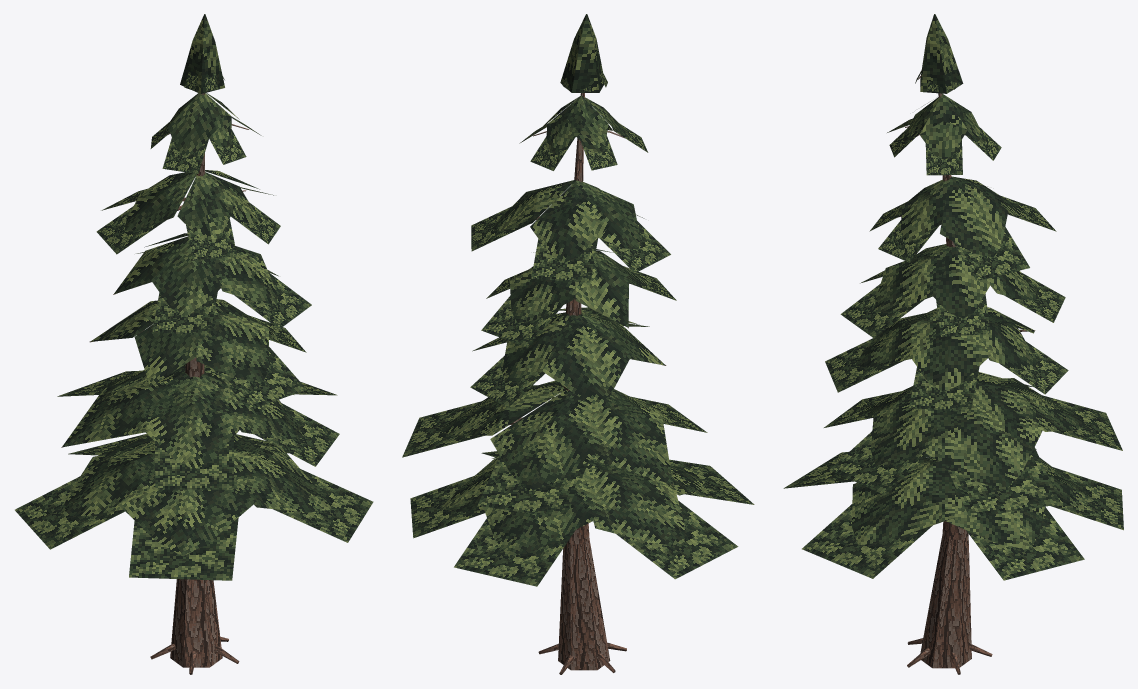
File: TREE_Pine_A_LOD1.glb
3 renders of one model, left to right at view 1: azimuth 30°, elevation 25°; view 2: azimuth 150°, elevation 25°; view 3: azimuth 270°, elevation 25°, orthographic.
Visible parts, largest first — view 1: TREE_Pine_A_LOD1__Foliage, TREE_Pine_A_LOD1__Card, TREE_Pine_A_LOD1__Bark; view 2: TREE_Pine_A_LOD1__Foliage, TREE_Pine_A_LOD1__Card, TREE_Pine_A_LOD1__Bark; view 3: TREE_Pine_A_LOD1__Foliage, TREE_Pine_A_LOD1__Card, TREE_Pine_A_LOD1__Bark.
Part boxes in pixels (x1,y1,x2,y2): TREE_Pine_A_LOD1__Foliage: (60,14,331,556); TREE_Pine_A_LOD1__Card: (15,72,373,580); TREE_Pine_A_LOD1__Bark: (61,93,249,674); TREE_Pine_A_LOD1__Foliage: (439,14,705,556); TREE_Pine_A_LOD1__Card: (402,70,754,586); TREE_Pine_A_LOD1__Bark: (509,93,673,674); TREE_Pine_A_LOD1__Foliage: (839,14,1093,550); TREE_Pine_A_LOD1__Card: (783,70,1123,580); TREE_Pine_A_LOD1__Bark: (898,75,1035,674).
Bounding box in the file's own units: 6.18 × 12.52 × 5.99.
Materials: 3 (3 with a texture image).
